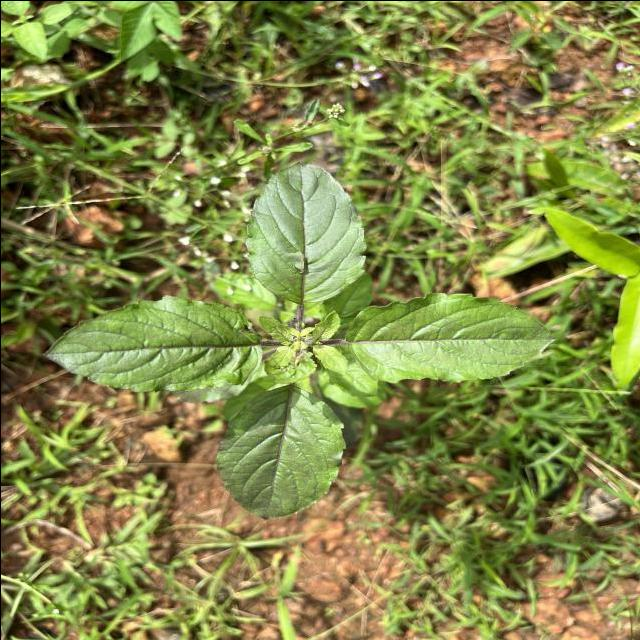Ocimum tenuiflorum: (40, 293, 265, 392), (342, 290, 556, 382), (240, 160, 368, 306), (214, 384, 348, 520)
